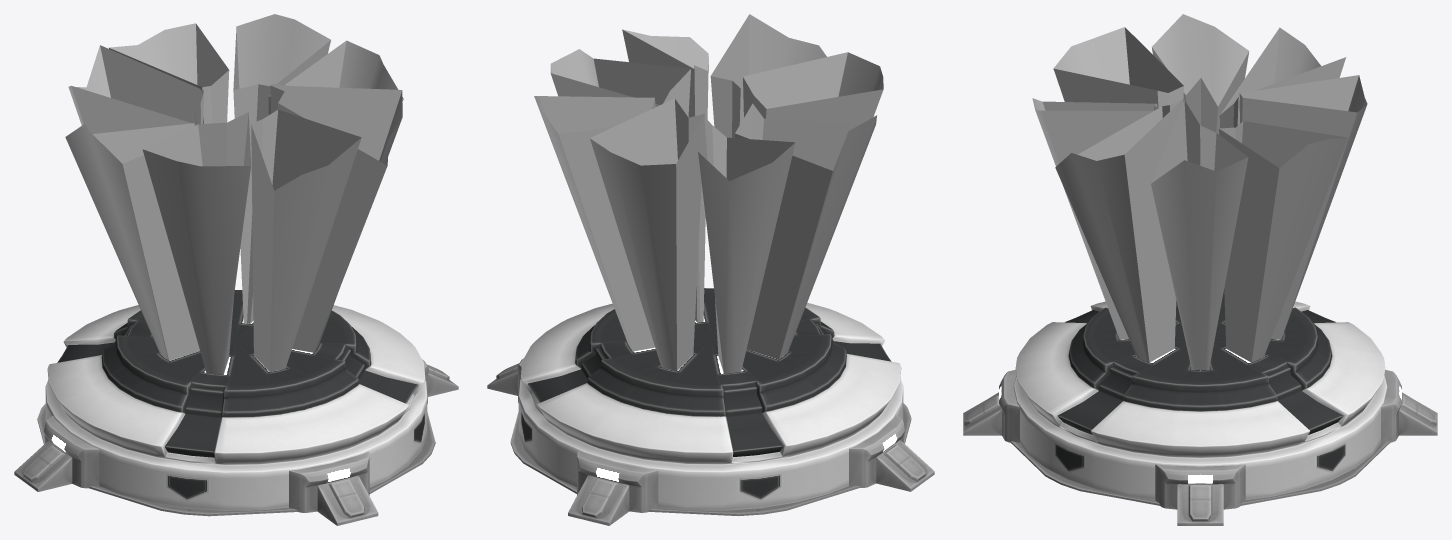
The model's file is LabHoloProjector01.FBX.
The picture shows the model from 3 angles, left to right: view 1: azimuth 30°, elevation 25°; view 2: azimuth 150°, elevation 25°; view 3: azimuth 270°, elevation 25°; orthographic projection. The views are drawn at different scales.
Visible parts, largest first — view 1: Volume, LabHoloProjector01; view 2: Volume, LabHoloProjector01; view 3: Volume, LabHoloProjector01.
Part boxes in pixels (x1,y1,x2,y2): Volume: (65, 14, 403, 374); LabHoloProjector01: (14, 290, 458, 525); Volume: (534, 14, 883, 373); LabHoloProjector01: (487, 288, 934, 525); Volume: (1032, 14, 1367, 369); LabHoloProjector01: (963, 289, 1437, 525).
Size of what is drawn, in the model's own units: 1.44 by 1.14 by 1.44.
